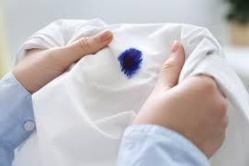ink: (119, 49, 141, 75)
